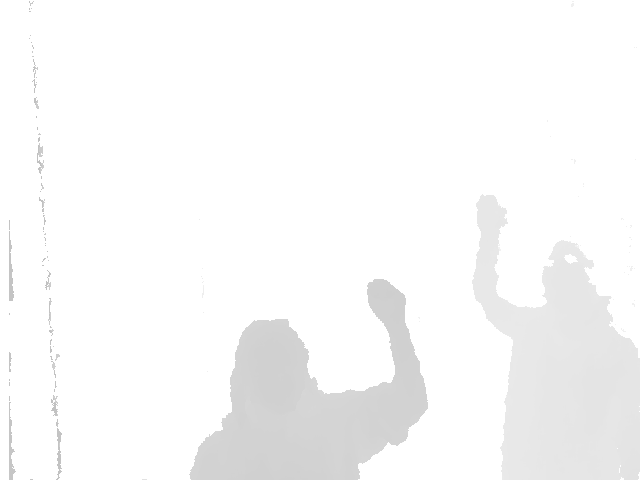hand: (366, 279, 407, 324), (476, 194, 508, 235)
head: (229, 318, 311, 426), (543, 240, 594, 309)
person: (184, 279, 430, 480), (470, 194, 640, 480)
